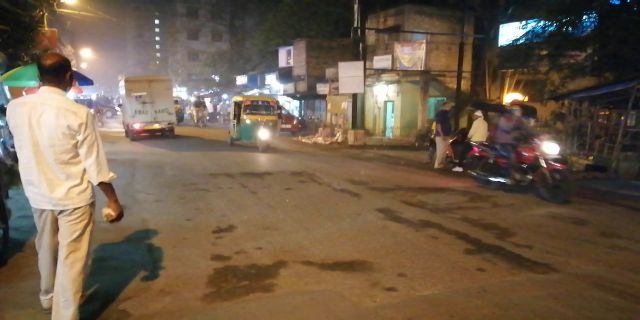Autorickshaw: (229, 97, 282, 149)
Minitruck: (120, 73, 186, 147)
Motorbike: (468, 101, 574, 205)
